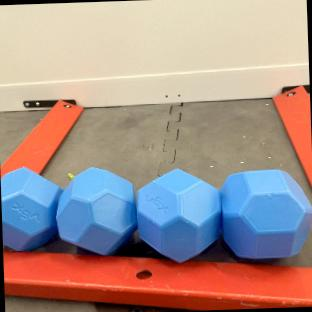Parking-R: (0, 101, 82, 173), (273, 86, 312, 185)
V5_BLUE: (222, 169, 312, 258), (138, 169, 219, 261), (57, 168, 135, 253), (1, 168, 60, 251)
pieces: (1, 164, 312, 263)
